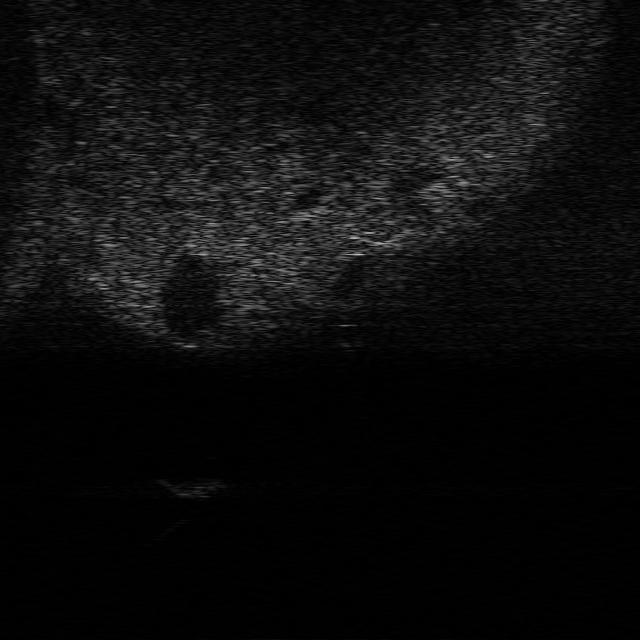ball: (335, 324, 366, 350)
cube: (158, 478, 226, 498)
